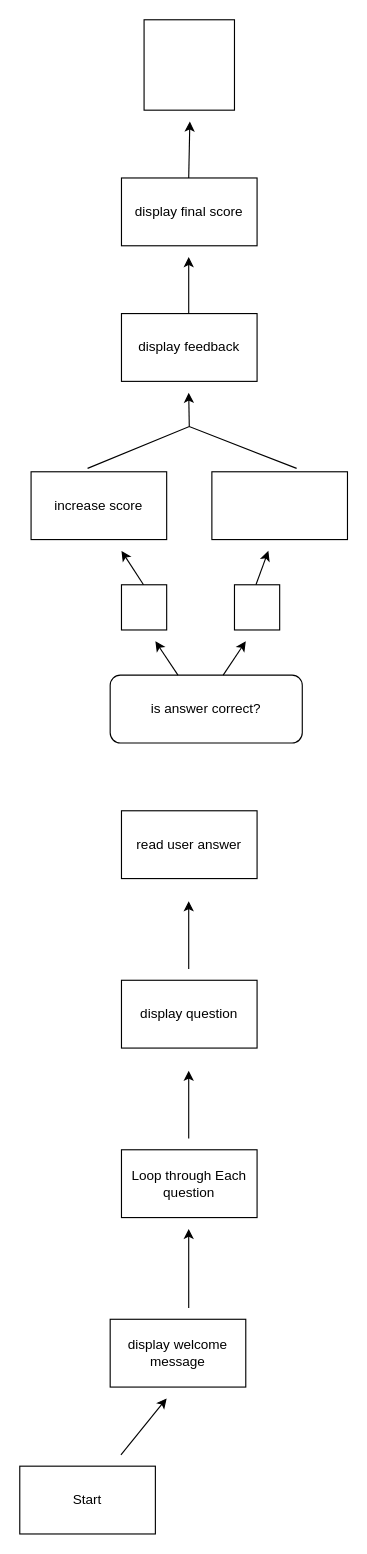
Some shapes in this 367 by 1554 pixel diagram are drawn without their labels. Here are the shapes that lost their labels. From the top down, the centre of each, then its label:
At pixel 188 64: "End".
At pixel 279 505: "display correct answer".
At pixel 143 607: "yes".
At pixel 256 607: "no".
